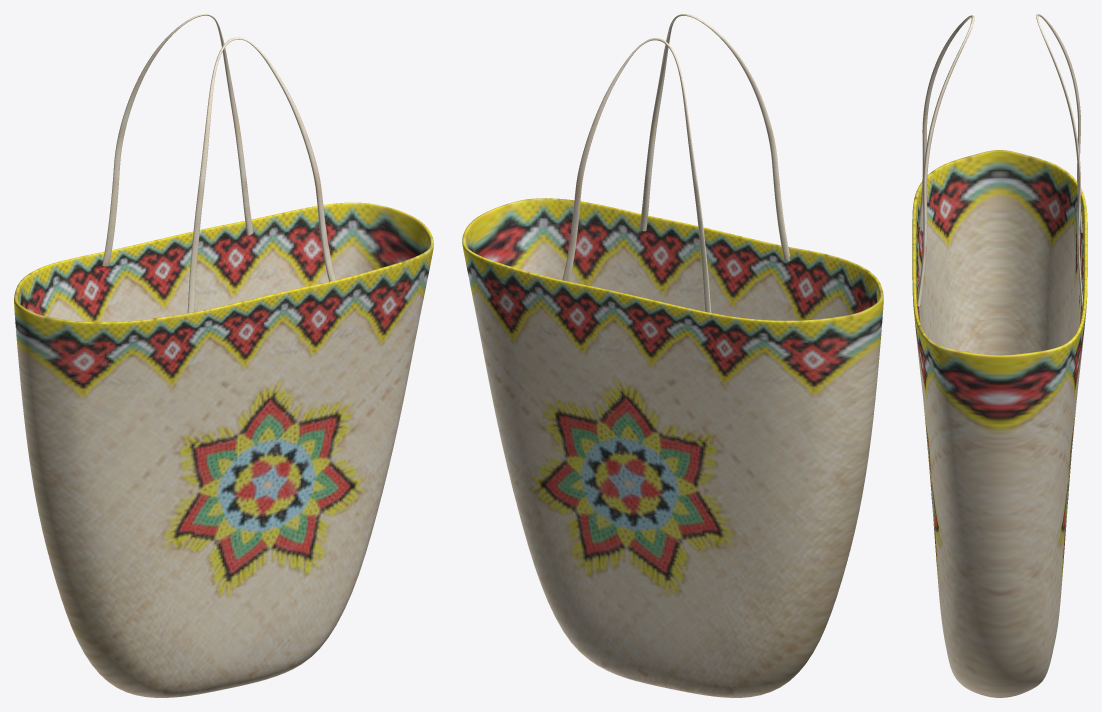
Rendered from woven-tote.glb.
3 views of the same model, side by side, from view 1: azimuth 30°, elevation 25°; view 2: azimuth 150°, elevation 25°; view 3: azimuth 270°, elevation 25° (orthographic).
Parts seen in each view (by area): view 1: PROP_0, PROP_1, PROP_2; view 2: PROP_0, PROP_1, PROP_2; view 3: PROP_0, PROP_1, PROP_2.
Part boxes in pixels (left/top/right/bottom): PROP_0: left=14, top=202, right=433, bottom=697; PROP_1: left=187, top=37, right=335, bottom=312; PROP_2: left=102, top=14, right=253, bottom=266; PROP_0: left=462, top=198, right=883, bottom=697; PROP_1: left=639, top=14, right=790, bottom=261; PROP_2: left=562, top=38, right=711, bottom=312; PROP_0: left=912, top=150, right=1087, bottom=697; PROP_1: left=917, top=15, right=974, bottom=306; PROP_2: left=1036, top=14, right=1082, bottom=305.
Size of the model in its own units: 0.4 by 0.6251 by 0.1514.
Materials: 3 (3 with a texture image).
